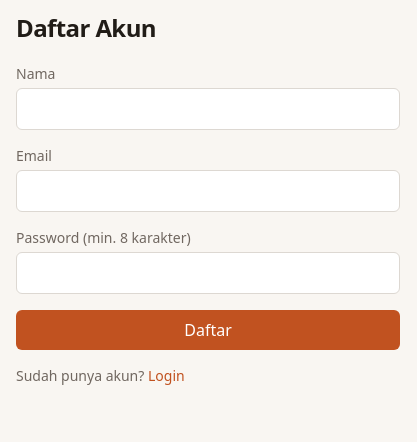
Test: RegisterView › shows validation error message from Laravel (duplicate email)
In the field labelled "Nama": (208, 109) [16,88,400,130], type "Rizky"
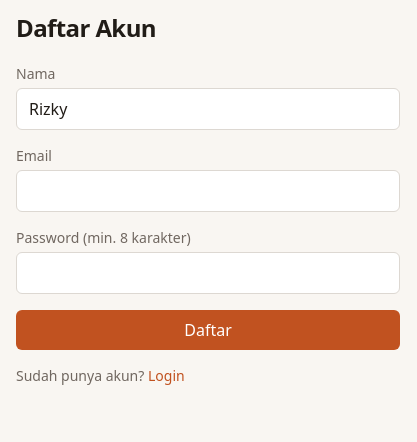
In the field labelled "Email": (208, 191) [16,170,400,212], type "taken@example.com"
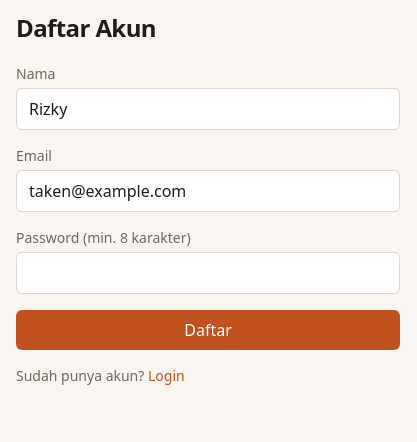
In the password field labelled "Password (min. 8 karakter)": (208, 273) [16,252,400,294], type "rahasia123"
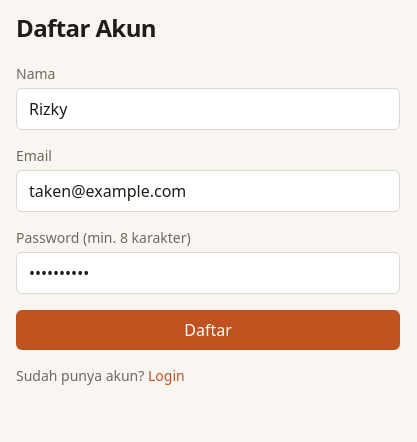
Submit the form, box [16,64,400,350]
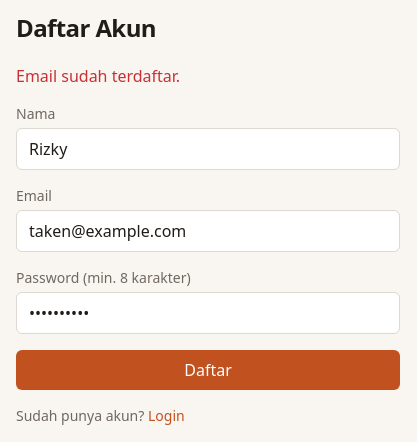
Expected: the message "Email sudah terdaftar." is shown, [16,65,180,87]
